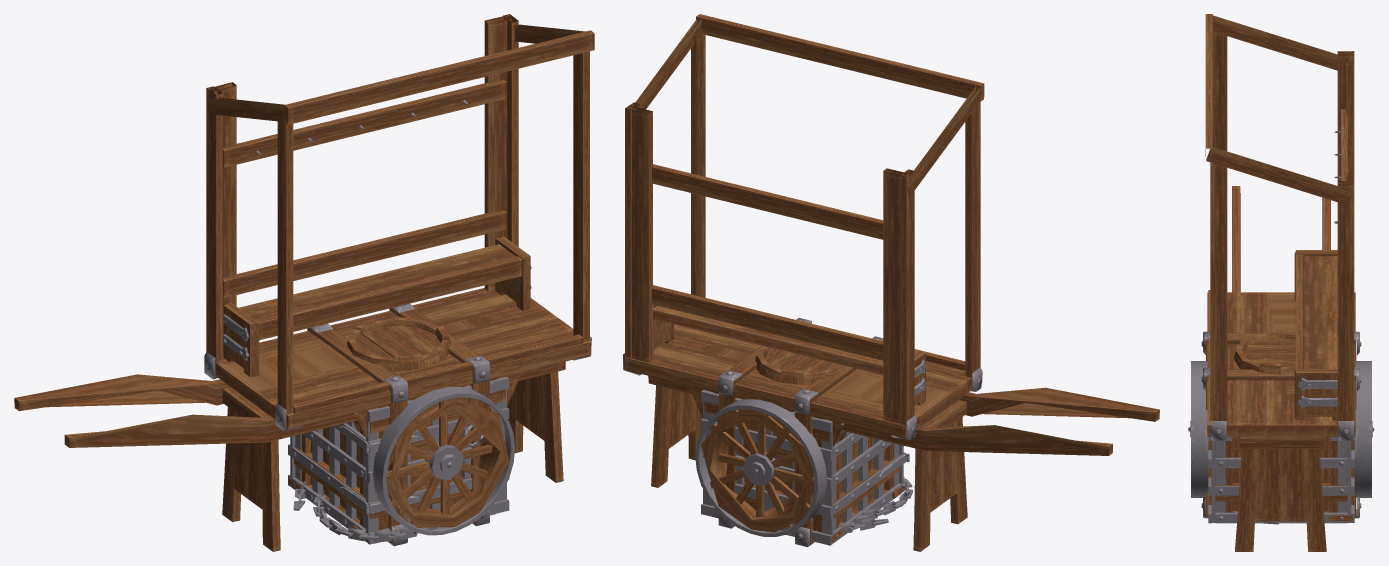
Rendered from Q_Props.glb.
The picture shows the model from 3 angles, left to right: view 1: azimuth 30°, elevation 25°; view 2: azimuth 150°, elevation 25°; view 3: azimuth 270°, elevation 25°; orthographic projection. The views are drawn at different scales.
Visible parts, largest first — view 1: Stall_Cart_Empty, Cage_Small, Crate_Wooden, Barrel, Chain_Coil; view 2: Stall_Cart_Empty, Cage_Small, Crate_Wooden, Barrel, Chain_Coil; view 3: Stall_Cart_Empty, Crate_Wooden, Cage_Small, Barrel.
Part boxes in pixels (box(x1,y1,x2,y2)): Stall_Cart_Empty: box(14, 14, 594, 551); Cage_Small: box(288, 376, 509, 544); Crate_Wooden: box(288, 303, 505, 546); Barrel: box(346, 317, 450, 371); Chain_Coil: box(293, 481, 437, 542); Stall_Cart_Empty: box(623, 14, 1159, 551); Cage_Small: box(701, 390, 909, 545); Crate_Wooden: box(704, 318, 905, 547); Barrel: box(755, 345, 847, 384); Chain_Coil: box(838, 476, 912, 533); Stall_Cart_Empty: box(1188, 14, 1374, 551); Crate_Wooden: box(1201, 331, 1361, 520); Cage_Small: box(1208, 437, 1354, 523); Barrel: box(1233, 331, 1295, 374).
Bounding box in the file's own units: 3.02 × 2.62 × 1.06.
Materials: 2 (2 with a texture image).
